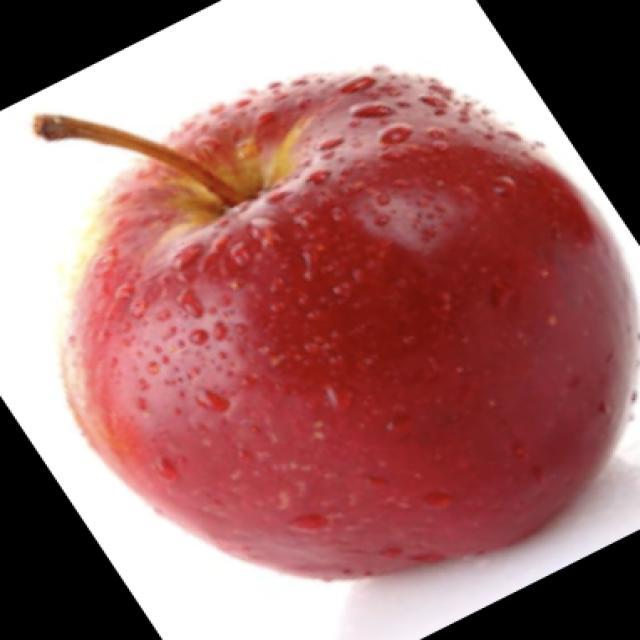Fresh Apple: (74, 88, 628, 577)
